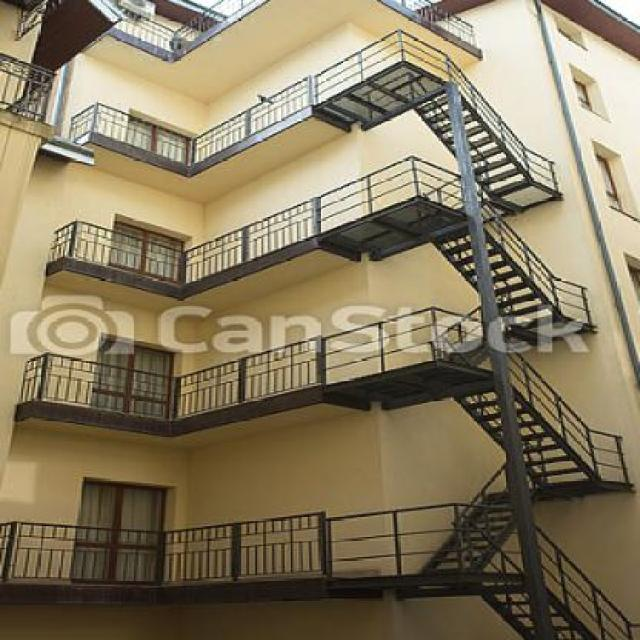stair: (408, 359, 628, 586), (340, 54, 631, 197), (378, 194, 628, 344)
